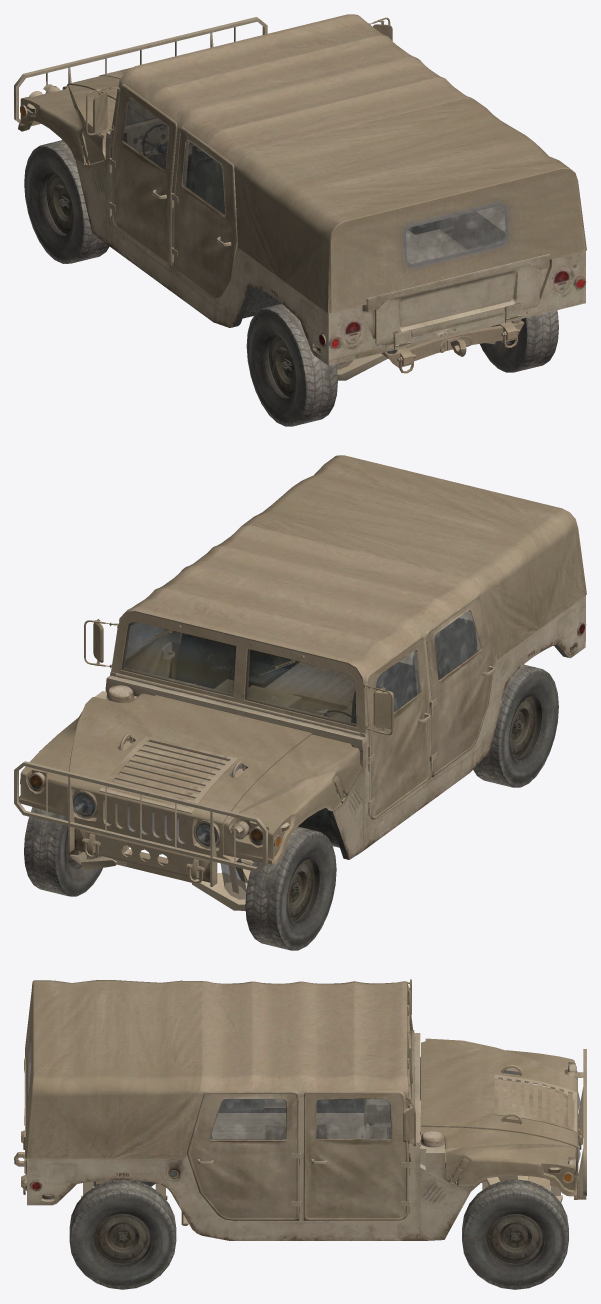
Rendered from hmmwv.glb.
3 renders of one model, top to bottom at view 1: azimuth 30°, elevation 25°; view 2: azimuth 150°, elevation 25°; view 3: azimuth 270°, elevation 25°, orthographic. The views are drawn at different scales.
Parts seen in each view (by area): view 1: Object_HMMWV_Utility_mat4_D.jpg_mat_6-HMMWV_Utility_mat4_D.j, Object_HMMWV_Utility_mat2_D.jpg_mat_2-HMMWV_Utility_mat2_D.j, Object_HMMWV_Utility_mat3_D.jpg_mat_1-HMMWV_Utility_mat3_D.j, Object_HMMWV_Utility_mat1_D.jpg_mat_0-HMMWV_Utility_mat1_D.j, Object_HMMWV_Utility_mat7_D.jpg_mat_5-HMMWV_Utility_mat7_D.j, Object_HMMWV_Utility_mat6_D.jpg_mat_4-HMMWV_Utility_mat6_D.j, Object_HMMWV_Utility_mat5_D.jpg_mat_3-HMMWV_Utility_mat5_D.j; view 2: Object_HMMWV_Utility_mat4_D.jpg_mat_6-HMMWV_Utility_mat4_D.j, Object_HMMWV_Utility_mat1_D.jpg_mat_0-HMMWV_Utility_mat1_D.j, Object_HMMWV_Utility_mat3_D.jpg_mat_1-HMMWV_Utility_mat3_D.j, Object_HMMWV_Utility_mat2_D.jpg_mat_2-HMMWV_Utility_mat2_D.j, Object_HMMWV_Utility_mat5_D.jpg_mat_3-HMMWV_Utility_mat5_D.j, Object_HMMWV_Utility_mat6_D.jpg_mat_4-HMMWV_Utility_mat6_D.j, Object_HMMWV_Utility_mat7_D.jpg_mat_5-HMMWV_Utility_mat7_D.j; view 3: Object_HMMWV_Utility_mat4_D.jpg_mat_6-HMMWV_Utility_mat4_D.j, Object_HMMWV_Utility_mat1_D.jpg_mat_0-HMMWV_Utility_mat1_D.j, Object_HMMWV_Utility_mat3_D.jpg_mat_1-HMMWV_Utility_mat3_D.j, Object_HMMWV_Utility_mat2_D.jpg_mat_2-HMMWV_Utility_mat2_D.j, Object_HMMWV_Utility_mat7_D.jpg_mat_5-HMMWV_Utility_mat7_D.j, Object_HMMWV_Utility_mat6_D.jpg_mat_4-HMMWV_Utility_mat6_D.j.
Part boxes in pixels (box(x1,y1,x2,y2)): Object_HMMWV_Utility_mat4_D.jpg_mat_6-HMMWV_Utility_mat4_D.j: box(109, 14, 586, 313); Object_HMMWV_Utility_mat2_D.jpg_mat_2-HMMWV_Utility_mat2_D.j: box(20, 84, 586, 365); Object_HMMWV_Utility_mat3_D.jpg_mat_1-HMMWV_Utility_mat3_D.j: box(24, 123, 558, 426); Object_HMMWV_Utility_mat1_D.jpg_mat_0-HMMWV_Utility_mat1_D.j: box(18, 17, 524, 380); Object_HMMWV_Utility_mat7_D.jpg_mat_5-HMMWV_Utility_mat7_D.j: box(123, 99, 505, 263); Object_HMMWV_Utility_mat6_D.jpg_mat_4-HMMWV_Utility_mat6_D.j: box(14, 17, 267, 126); Object_HMMWV_Utility_mat5_D.jpg_mat_3-HMMWV_Utility_mat5_D.j: box(28, 99, 568, 369); Object_HMMWV_Utility_mat4_D.jpg_mat_6-HMMWV_Utility_mat4_D.j: box(119, 455, 586, 819); Object_HMMWV_Utility_mat1_D.jpg_mat_0-HMMWV_Utility_mat1_D.j: box(19, 612, 420, 910); Object_HMMWV_Utility_mat3_D.jpg_mat_1-HMMWV_Utility_mat3_D.j: box(24, 618, 558, 950); Object_HMMWV_Utility_mat2_D.jpg_mat_2-HMMWV_Utility_mat2_D.j: box(20, 595, 586, 859); Object_HMMWV_Utility_mat5_D.jpg_mat_3-HMMWV_Utility_mat5_D.j: box(29, 622, 356, 899); Object_HMMWV_Utility_mat6_D.jpg_mat_4-HMMWV_Utility_mat6_D.j: box(14, 761, 267, 886); Object_HMMWV_Utility_mat7_D.jpg_mat_5-HMMWV_Utility_mat7_D.j: box(126, 610, 480, 712); Object_HMMWV_Utility_mat4_D.jpg_mat_6-HMMWV_Utility_mat4_D.j: box(25, 980, 410, 1220); Object_HMMWV_Utility_mat1_D.jpg_mat_0-HMMWV_Utility_mat1_D.j: box(14, 979, 582, 1225); Object_HMMWV_Utility_mat3_D.jpg_mat_1-HMMWV_Utility_mat3_D.j: box(69, 1099, 568, 1289); Object_HMMWV_Utility_mat2_D.jpg_mat_2-HMMWV_Utility_mat2_D.j: box(24, 1030, 583, 1240); Object_HMMWV_Utility_mat7_D.jpg_mat_5-HMMWV_Utility_mat7_D.j: box(28, 1029, 391, 1139); Object_HMMWV_Utility_mat6_D.jpg_mat_4-HMMWV_Utility_mat6_D.j: box(574, 1049, 586, 1199).
Bounding box in the file's own units: 2.51 × 1.84 × 4.6.
7 materials, 6 textured.
